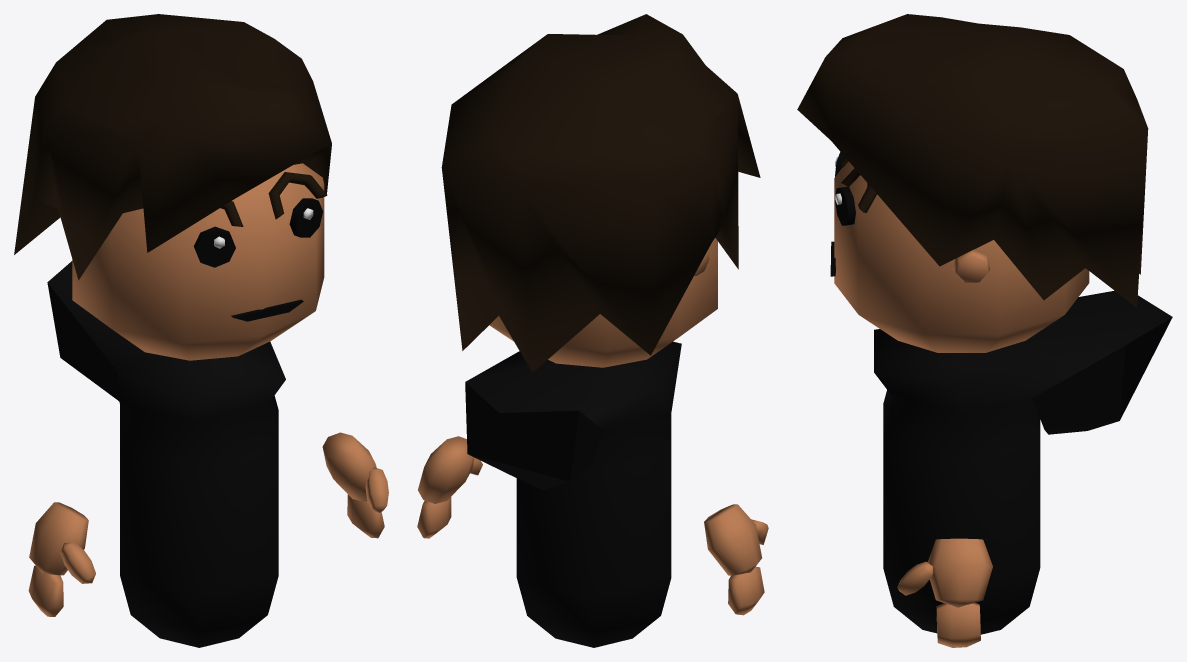
The model's file is hombre_3.fbx.
3 renders of one model, left to right at view 1: azimuth 30°, elevation 25°; view 2: azimuth 150°, elevation 25°; view 3: azimuth 270°, elevation 25°, orthographic. The views are drawn at different scales.
Parts seen in each view (by area): view 1: Pelo002, Sudadera002, Cabeza002, Palma Izquerda005, Palma Izquerda004, Dedos Izquierdos004, Ojo Derecho002, Dedos Izquierdos005, DedoPulga Izquierdo005, Ceja Izquierda002, Ojo Izquierdo002, DedoPulga Izquierdo004 (+1 smaller); view 2: Pelo002, Sudadera002, Cabeza002, Palma Izquerda005, Palma Izquerda004, Dedos Izquierdos004, Dedos Izquierdos005; view 3: Pelo002, Sudadera002, Cabeza002, Palma Izquerda004, Dedos Izquierdos005, Oreja Derecha005, DedoPulga Izquierdo004, Ojo Izquierdo002.
Boxes of the visible parts, bbox=[...] form: Pelo002: bbox=[14, 14, 331, 280]; Sudadera002: bbox=[47, 261, 285, 647]; Cabeza002: bbox=[72, 163, 324, 360]; Palma Izquerda005: bbox=[29, 502, 88, 575]; Palma Izquerda004: bbox=[322, 432, 376, 501]; Dedos Izquierdos004: bbox=[28, 565, 63, 616]; Ojo Derecho002: bbox=[193, 226, 235, 267]; Dedos Izquierdos005: bbox=[347, 495, 384, 538]; DedoPulga Izquierdo005: bbox=[60, 542, 95, 583]; Ceja Izquierda002: bbox=[268, 172, 327, 219]; Ojo Izquierdo002: bbox=[289, 198, 323, 237]; DedoPulga Izquierdo004: bbox=[365, 467, 388, 512]; Pelo002: bbox=[441, 14, 760, 372]; Sudadera002: bbox=[465, 341, 681, 647]; Cabeza002: bbox=[489, 238, 717, 367]; Palma Izquerda005: bbox=[704, 504, 761, 575]; Palma Izquerda004: bbox=[418, 436, 474, 503]; Dedos Izquierdos004: bbox=[728, 566, 764, 615]; Dedos Izquierdos005: bbox=[417, 497, 451, 538]; Pelo002: bbox=[797, 14, 1148, 307]; Sudadera002: bbox=[874, 290, 1172, 634]; Cabeza002: bbox=[834, 161, 1089, 352]; Palma Izquerda004: bbox=[927, 538, 992, 607]; Dedos Izquierdos005: bbox=[936, 603, 980, 647]; Oreja Derecha005: bbox=[952, 250, 989, 282]; DedoPulga Izquierdo004: bbox=[897, 561, 933, 595]; Ojo Izquierdo002: bbox=[835, 186, 855, 225].
Bounding box in the file's own units: 1.46 × 2.43 × 1.39.
